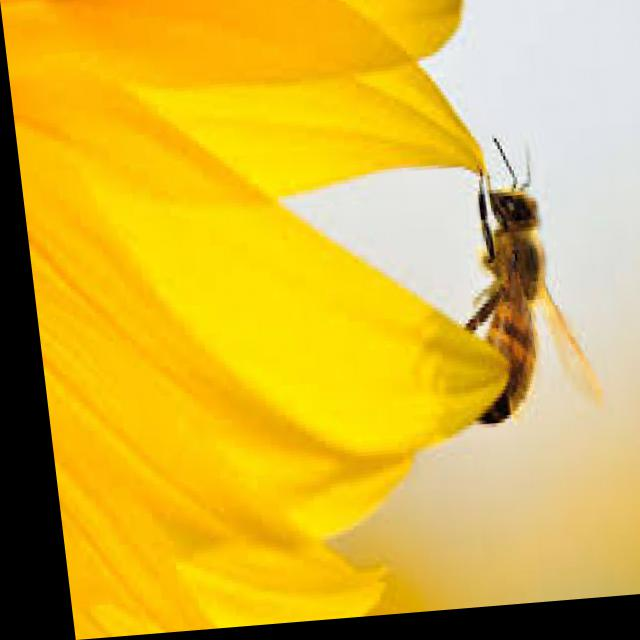Abeille: (436, 130, 610, 462)
